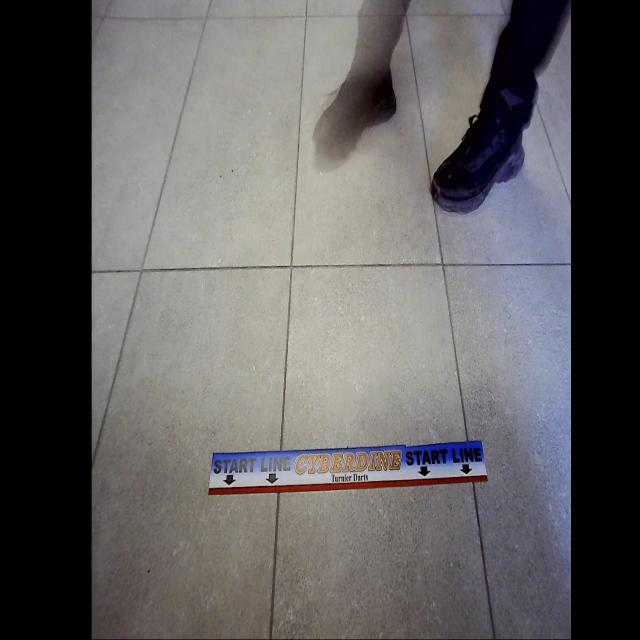foot: (426, 100, 526, 216), (312, 63, 396, 163)
